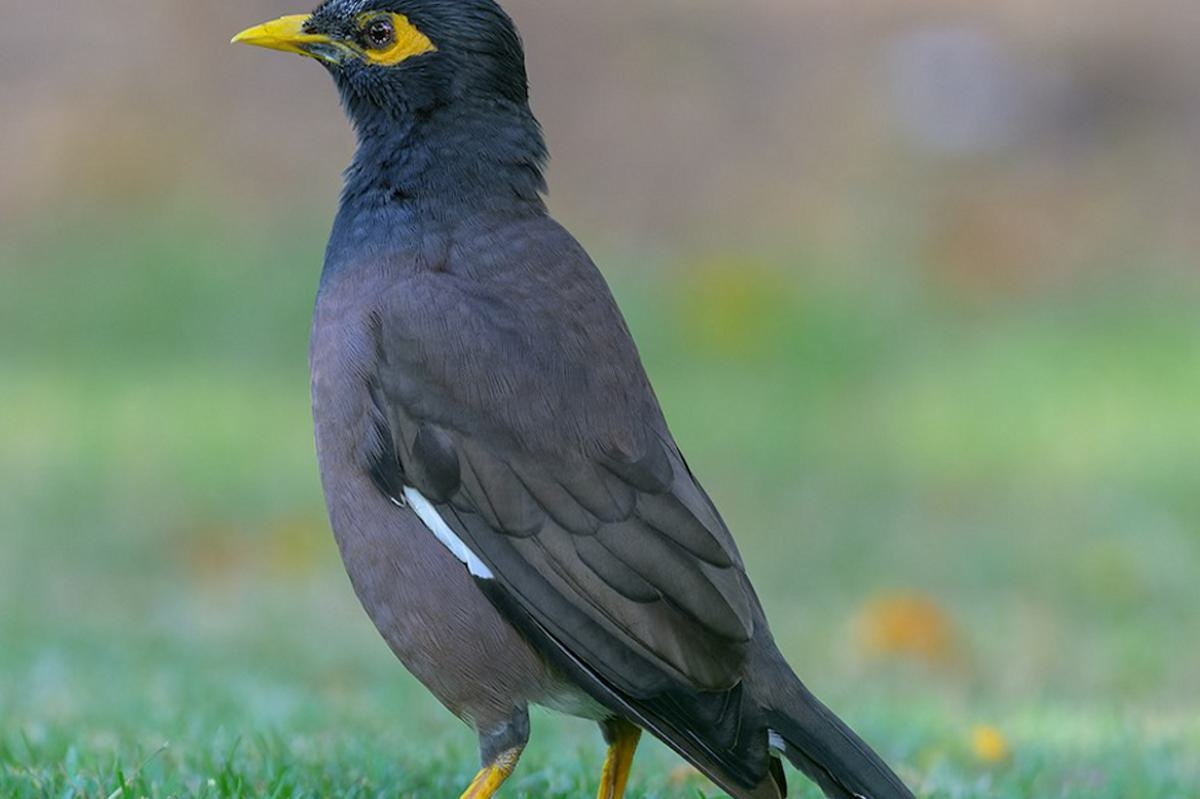myna: (230, 7, 809, 722)
